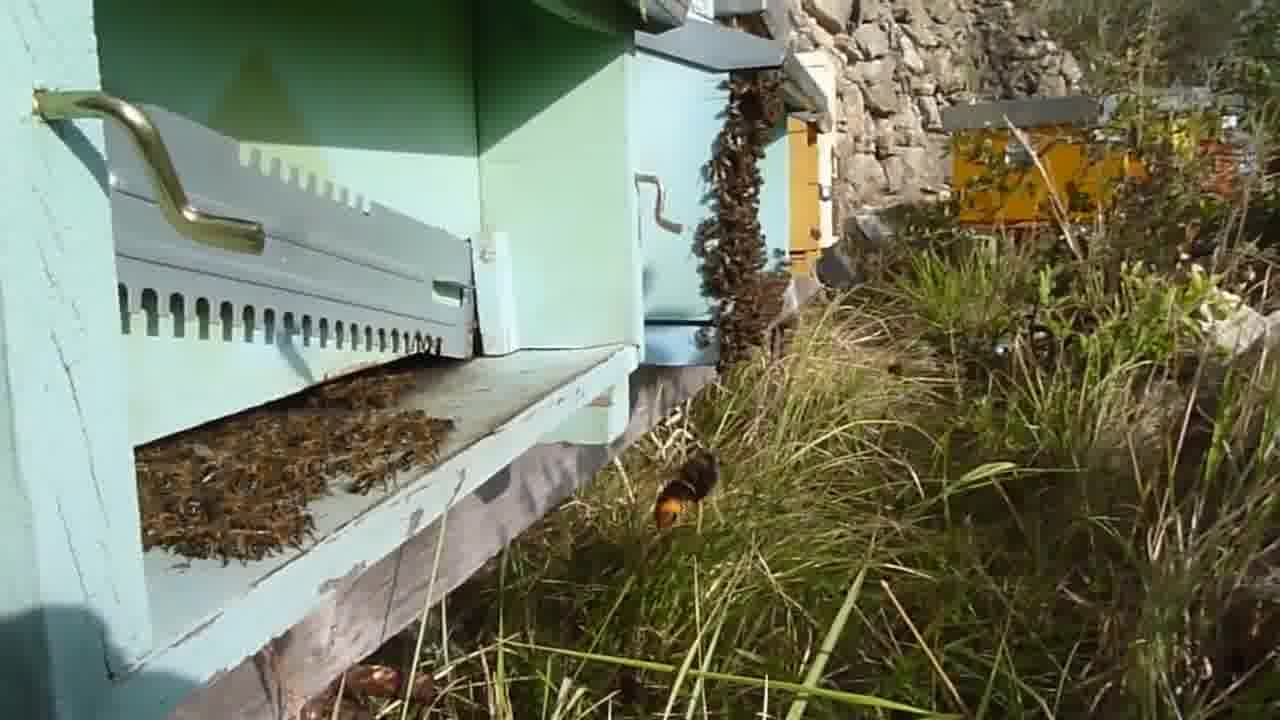bee: (142, 450, 332, 551), (330, 409, 451, 490), (706, 294, 783, 371), (683, 229, 768, 294), (713, 80, 780, 160), (701, 154, 765, 228), (200, 416, 325, 450), (320, 376, 405, 409)
hornet: (640, 439, 738, 527)
